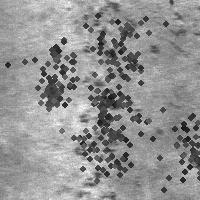rolled-in_scale: (49, 85, 161, 197), (71, 3, 129, 197), (70, 0, 164, 93), (13, 20, 99, 106), (140, 99, 200, 200), (69, 67, 139, 137), (121, 4, 192, 72), (29, 70, 69, 110)
